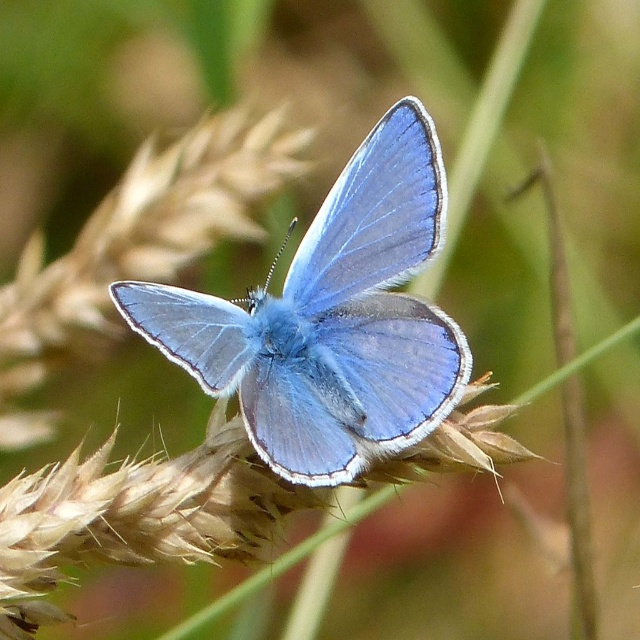Butterfly: (110, 107, 476, 527)
